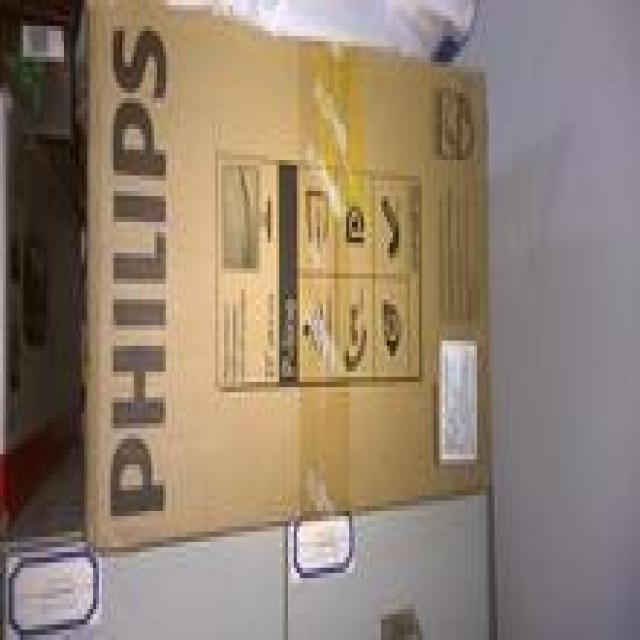cardboard: (66, 0, 495, 541)
